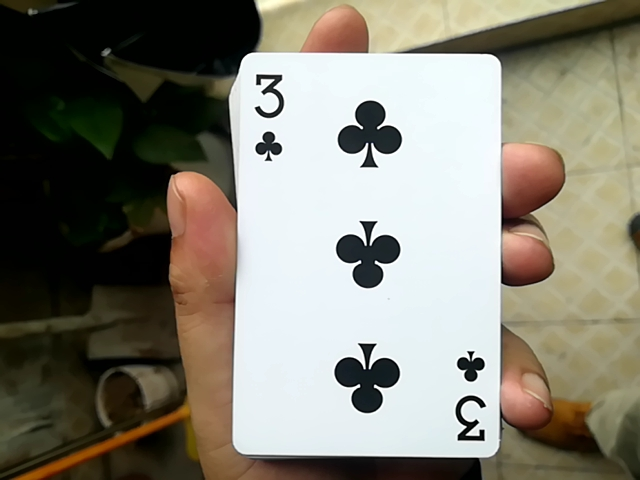mh 3: (217, 41, 499, 465)
